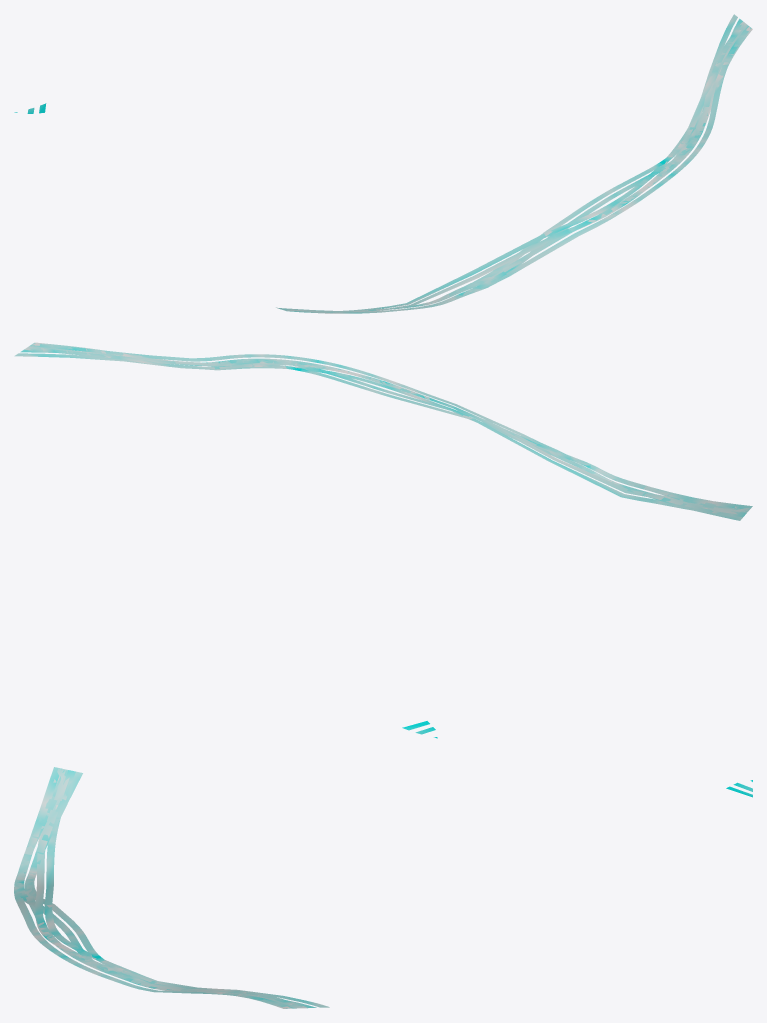
Rendered from cell_175_119.fbx.
3 views of the same model, one above another, from view 1: azimuth 30°, elevation 25°; view 2: azimuth 150°, elevation 25°; view 3: azimuth 270°, elevation 25° (orthographic). The views are drawn at different scales.
Visible parts, largest first — view 1: SpaceCenter_Long3_GenerateRoad_Sand_TireTracks_Narrow_Mesh_.; view 2: SpaceCenter_Long3_GenerateRoad_Sand_TireTracks_Narrow_Mesh_.; view 3: SpaceCenter_Long3_GenerateRoad_Sand_TireTracks_Narrow_Mesh_..
Boxes of the visible parts, x1,y1,x2,y2 form: SpaceCenter_Long3_GenerateRoad_Sand_TireTracks_Narrow_Mesh_.: (14,14,752,313); SpaceCenter_Long3_GenerateRoad_Sand_TireTracks_Narrow_Mesh_.: (14,342,752,738); SpaceCenter_Long3_GenerateRoad_Sand_TireTracks_Narrow_Mesh_.: (14,767,752,1008).
Size of the model in its own units: 64 by 11.1 by 58.63.
